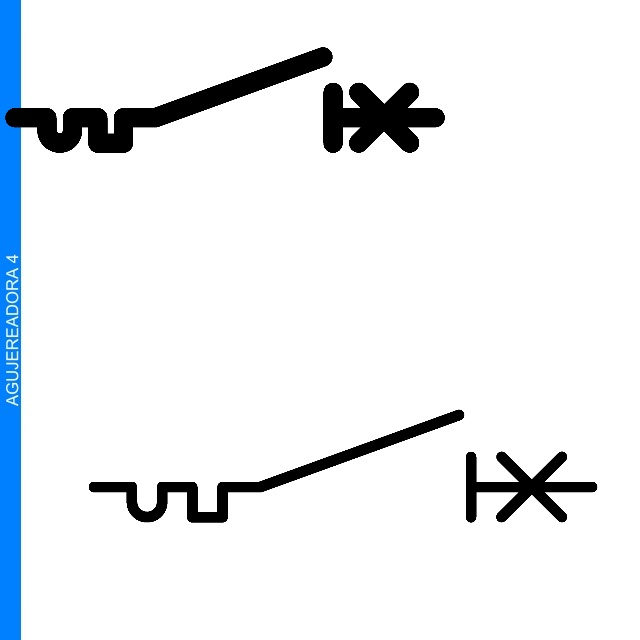interruptor_termomagnetico: (81, 402, 604, 530), (4, 46, 446, 154)
